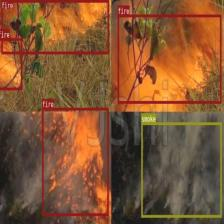fire: (117, 14, 221, 103), (41, 108, 108, 216), (1, 0, 109, 54), (0, 37, 22, 90)
smoke: (141, 122, 222, 217)
